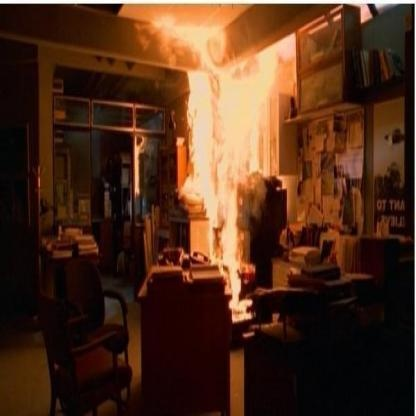fire: (180, 31, 280, 301)
